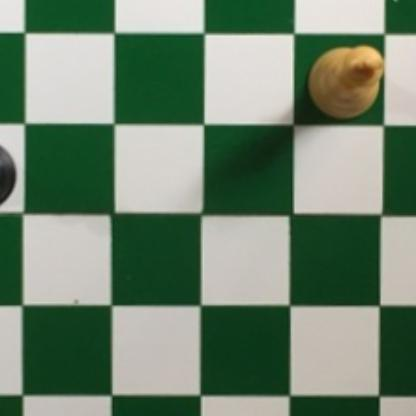black-king: (0, 133, 19, 212)
white-king: (305, 41, 384, 122)
